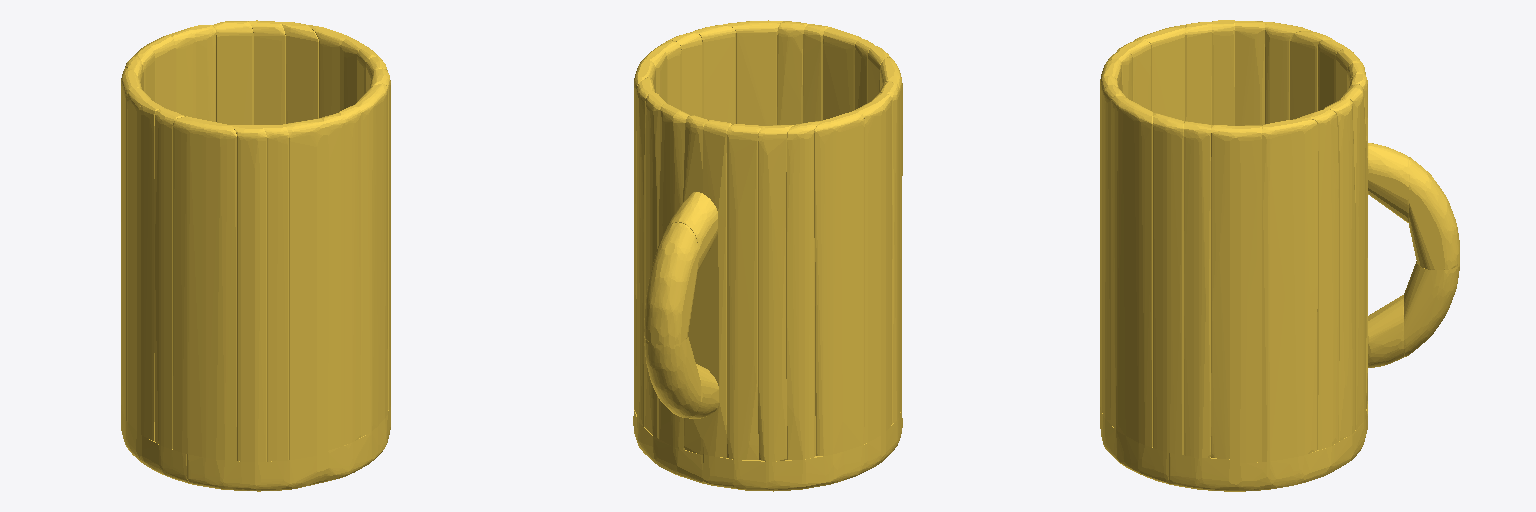
The robot description file, URDF, robot "842.urdf":
<?xml version="1.0" ?>
<robot name="842.urdf">
	<link name="baseLink">
		<inertial>
			<origin rpy="0 0 0" xyz="0 0 0"/>
				<mass value="0.1"/>
				<inertia ixx="6e-5" ixy="0" ixz="0" iyy="6e-5" iyz="0" izz="6e-5"/>
		</inertial>
		<visual>
			<origin rpy="0 0 0" xyz="0 0 0"/>
			<geometry>
				<mesh filename="3_decom_wt.obj" scale="0.98 0.98 1.18"/>
			</geometry>
			<material name="yellow">
				<color rgba="0.98 0.84 0.35 1"/>
			</material>
		</visual>
		<collision>
			<origin rpy="0 0 0" xyz="0 0 0"/>
			<geometry>
				<mesh filename="3_decom_wt.obj" scale="0.98 0.98 1.18"/>
			</geometry>
		</collision>
	</link>
</robot>

--- What the picture shows (computed from the rendered views, not written in the file) ---
The picture shows the robot from 3 angles, left to right: view 1: azimuth 30°, elevation 25°; view 2: azimuth 150°, elevation 25°; view 3: azimuth 270°, elevation 25°; orthographic projection.
Robot: 842.urdf — 1 links, 0 joints (none); root link baseLink; default pose: all joints at 0.
Visible links, largest first — view 1: baseLink; view 2: baseLink; view 3: baseLink.
Boxes of the visible links, left/top/right/bottom form: baseLink: left=121, top=20, right=390, bottom=491; baseLink: left=633, top=20, right=902, bottom=491; baseLink: left=1100, top=20, right=1459, bottom=491.
Size in the robot's own frame: 0.0843 by 0.1131 by 0.1261 metres.
Meshes: 1 distinct files referenced, 1 mesh visuals loaded (1 OBJ).